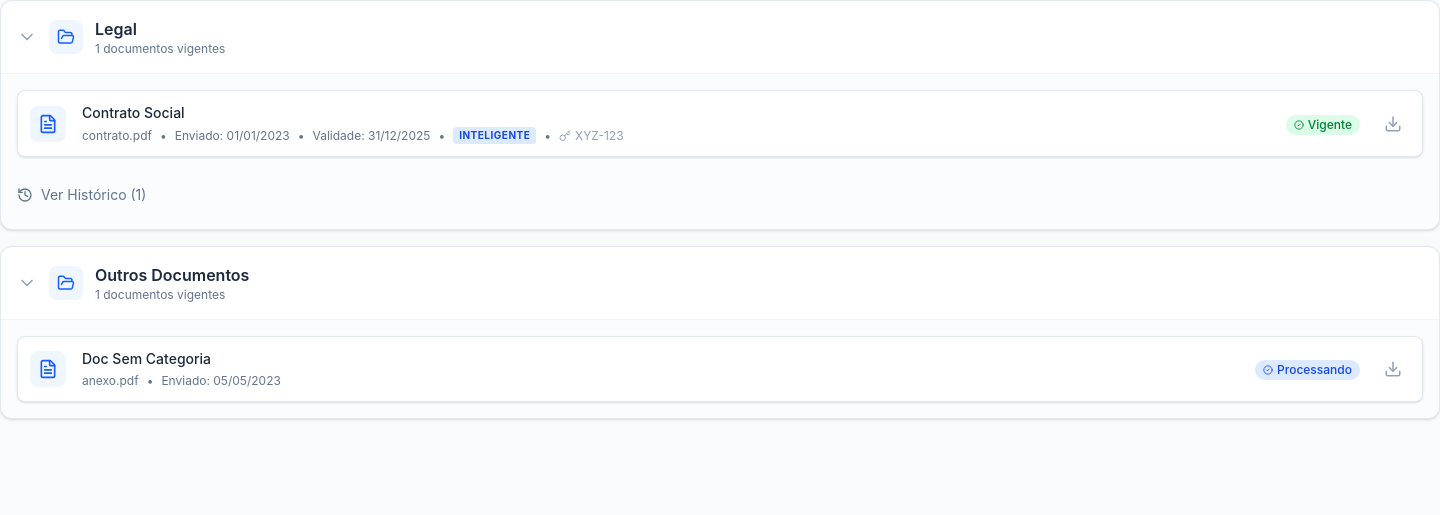
Scenario: CompanyVault Component › deve ocultar documentos vencidos até clicar em "Ver Histórico"
The width and height of the screenshot is (1440, 515).
Expected: the text "Alvará Vencido" is not shown
Note: Clica para expandir o histórico
Click the button "Ver Histórico (1)" at (82, 195), box [17,177,146,213]
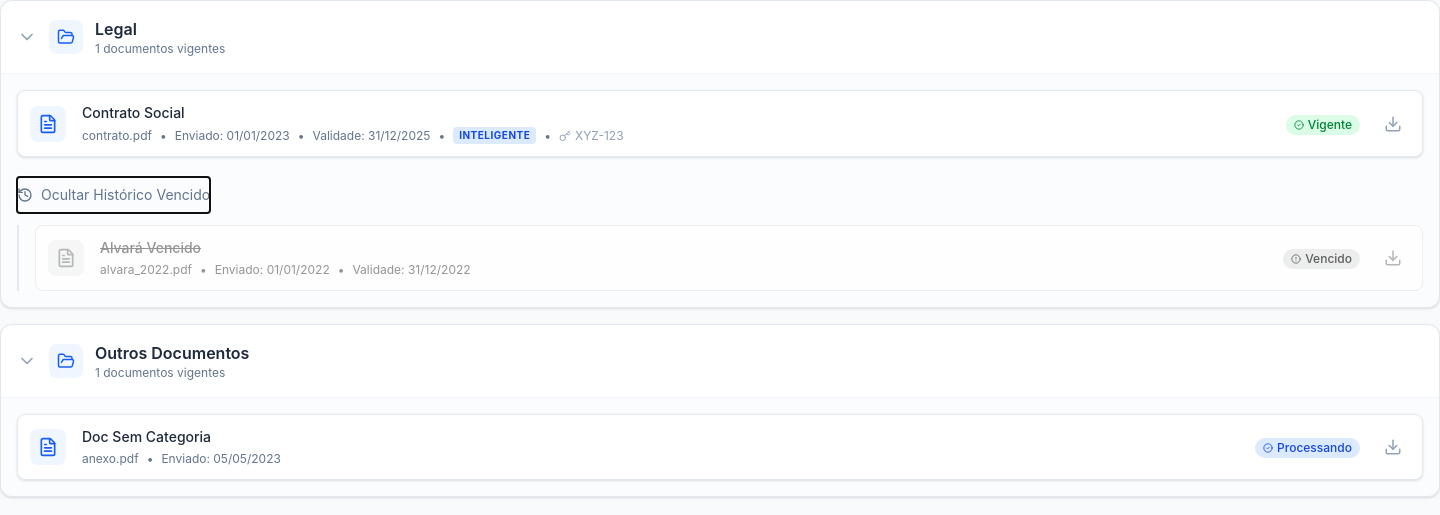
Now the text "Alvará Vencido" is shown, box [100,239,201,256]
Now the button "Ocultar Histórico Vencido" is shown, box [17,177,210,213]
